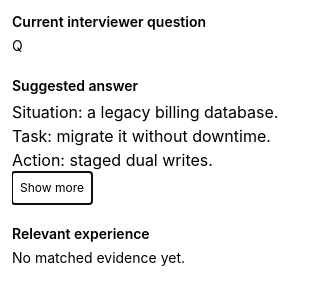
it: collapses a long suggestion behind a keyboard-accessible Show more toggle
The width and height of the screenshot is (332, 307).
Later steps or results of the test are not shown.
Expected: the text "Situation: a legacy billing database." is shown, [12,102,278,122]
Expected: the text "Action: staged dual writes." is shown, [12,150,213,170]
Click the button "Show more".
click(52, 188)  # box [12,172,92,204]
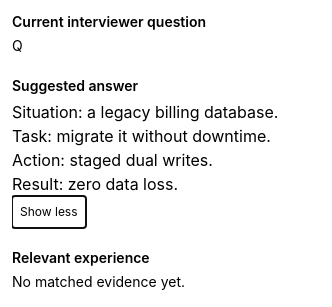
Expected: the text "Result: zero data loss." is shown, [12,174,178,194]
Expected: the button "Show less" is expanded
Click the button "Show less".
click(49, 212)  # box [12,196,86,228]
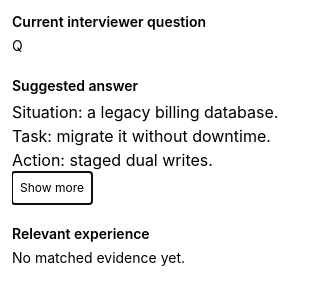
Expected: the text "Result: zero data loss." is gone
